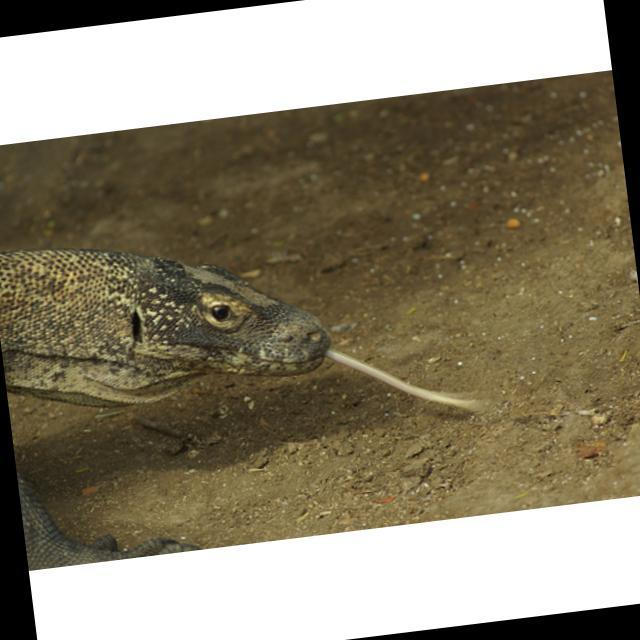KomodoDragon: (0, 190, 496, 567)
